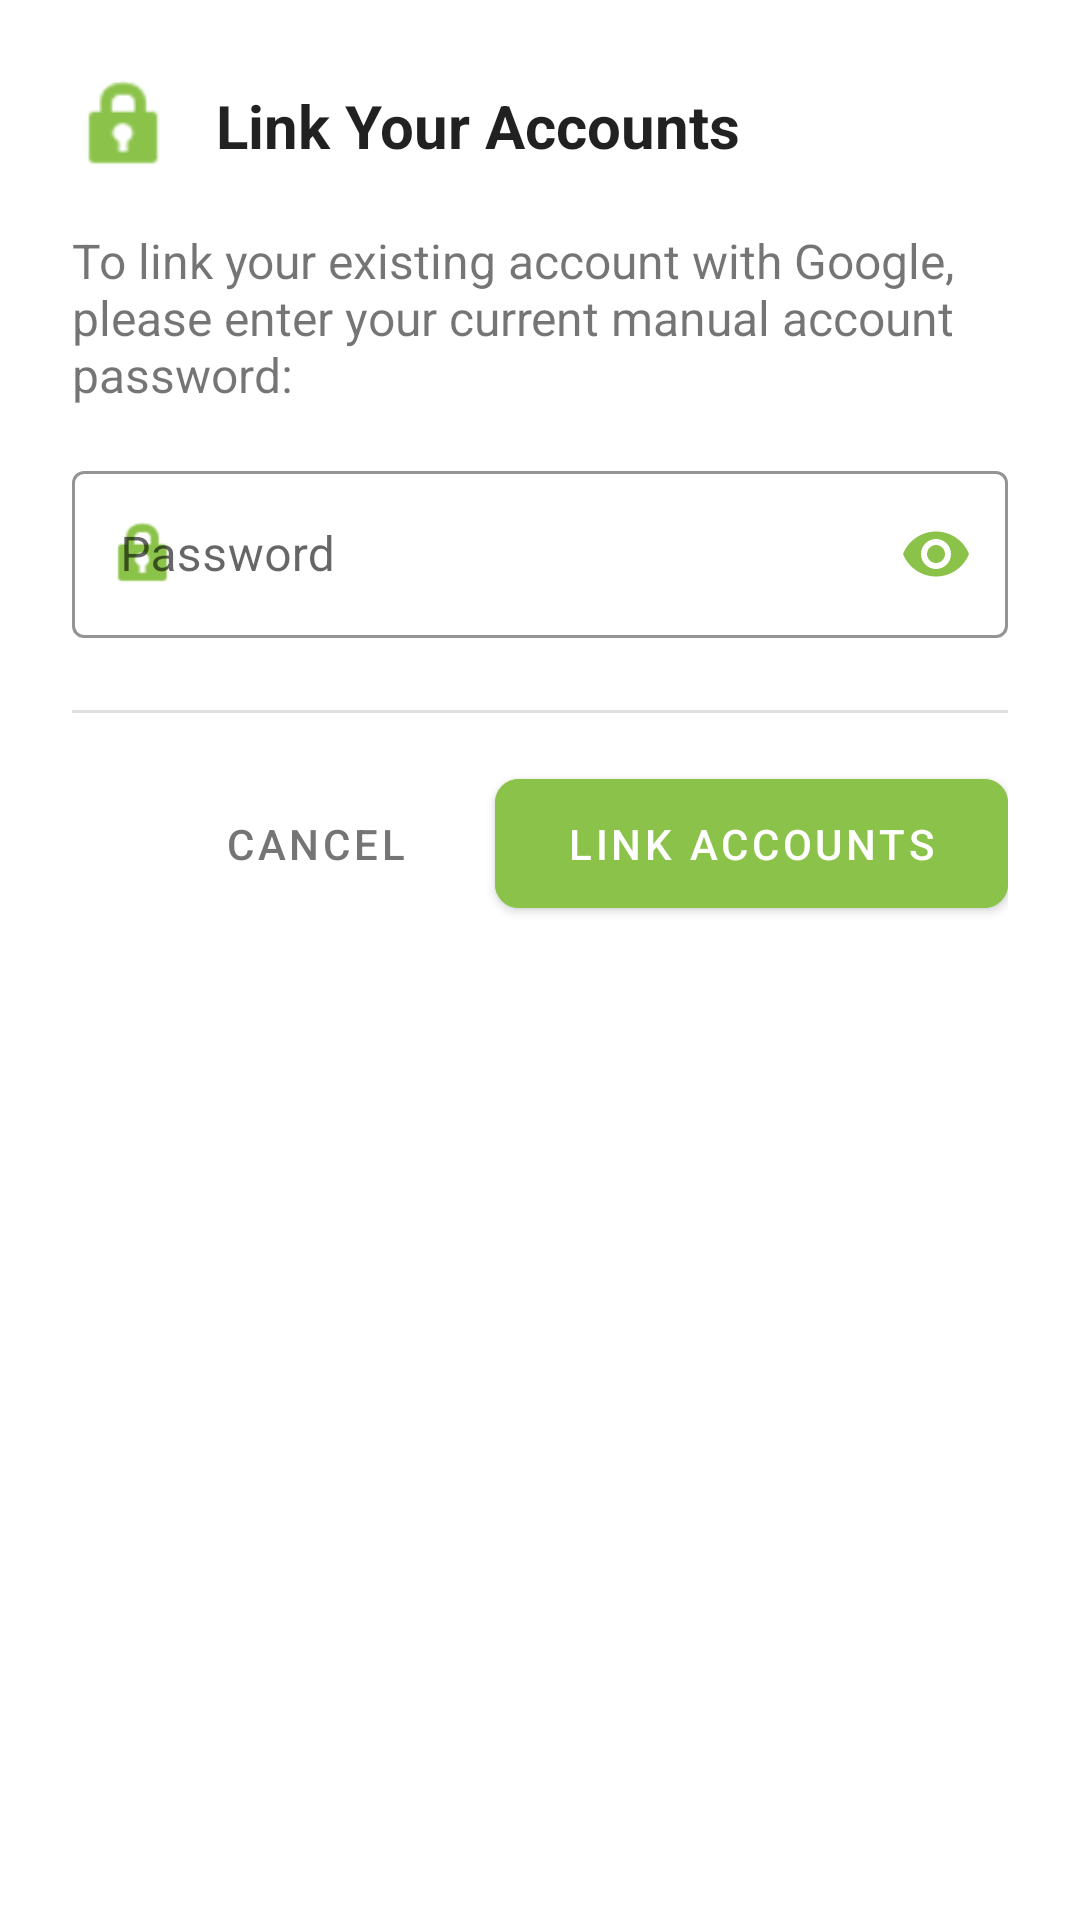

Point at icon controls on the screen. Image size 1080*1920, points as point (x, y).
Lock icon: point (123, 122)
